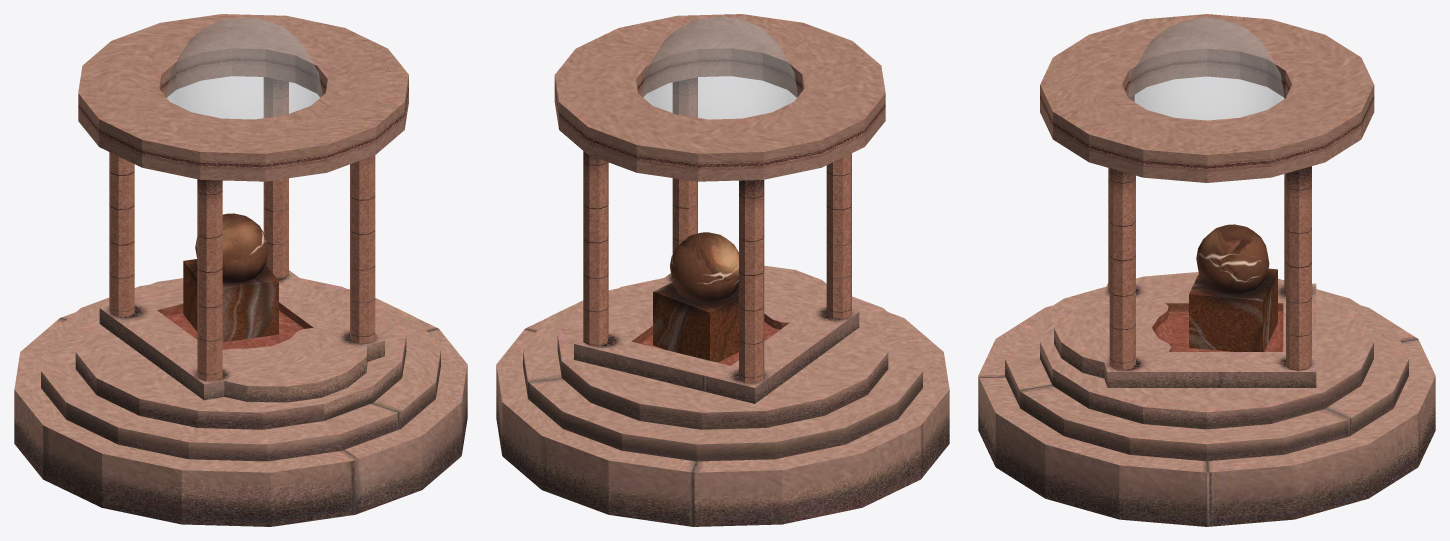
The model's file is pallo.dae.
The picture shows the model from 3 angles, left to right: view 1: azimuth 30°, elevation 25°; view 2: azimuth 150°, elevation 25°; view 3: azimuth 270°, elevation 25°; orthographic projection.
Parts seen in each view (by area): view 1: pallo; view 2: pallo; view 3: pallo.
Boxes of the visible parts, x1,y1,x2,y2 form: pallo: (14,14,467,526); pallo: (496,14,949,526); pallo: (978,14,1435,526).
Bounding box in the file's own units: 3.83 × 3.83 × 3.76.
2 materials, 1 textured.
